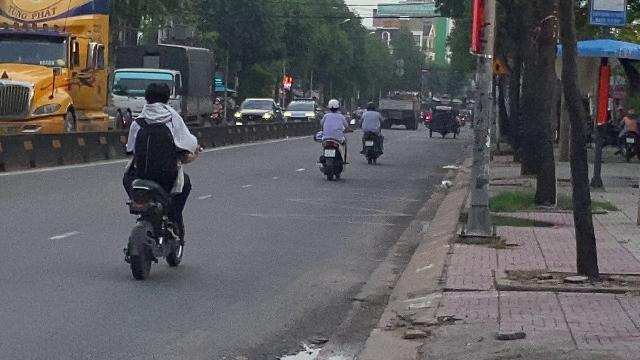motorcyclist: (117, 79, 199, 283)
nohelmet: (142, 80, 172, 108)
